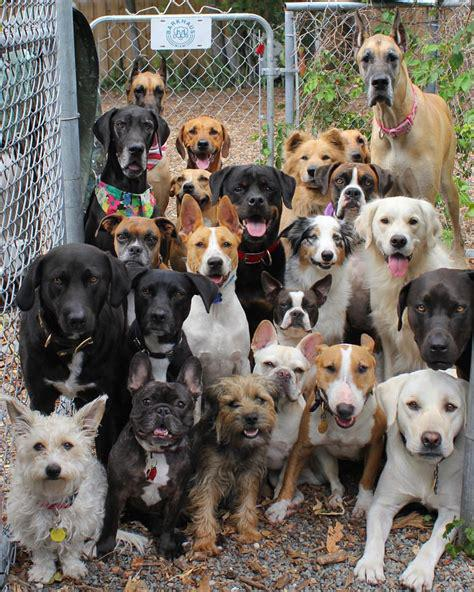dog: (351, 8, 465, 254), (354, 370, 473, 591), (267, 334, 383, 522), (19, 242, 130, 411), (5, 397, 106, 582), (356, 198, 459, 373), (96, 386, 195, 557), (192, 378, 282, 556), (179, 194, 250, 376), (82, 104, 170, 241), (211, 164, 294, 296), (128, 268, 217, 389), (252, 320, 321, 458), (398, 269, 472, 379), (281, 215, 353, 290), (284, 129, 344, 214), (261, 270, 331, 339), (317, 162, 391, 221), (101, 213, 175, 271), (176, 116, 231, 172), (126, 59, 165, 116), (169, 168, 211, 215), (337, 129, 370, 164)
